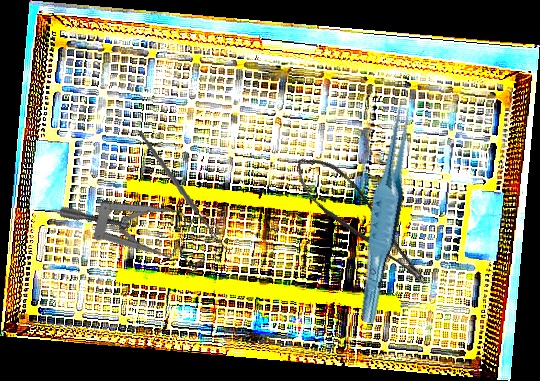Hook Surgical: (138, 123, 234, 258)
Micro Scissor: (285, 140, 433, 307)
Speculum: (56, 143, 229, 300)
Tissue Forceps: (343, 97, 431, 325)
